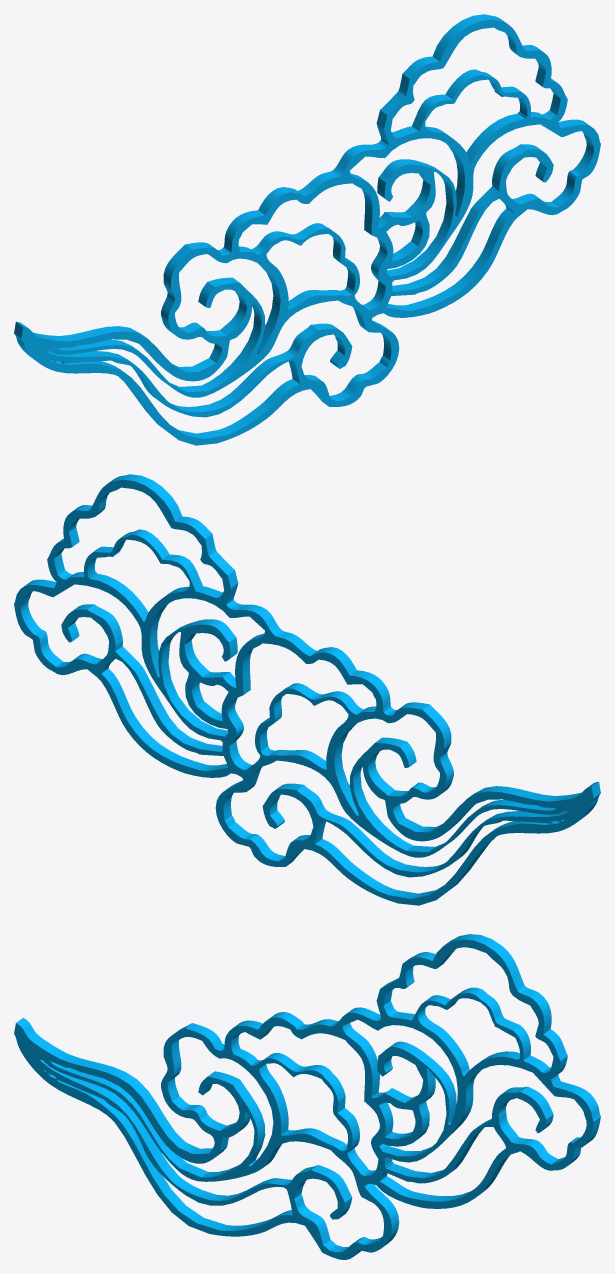
The model's file is cloud.fbx.
The picture shows the model from 3 angles, top to bottom: view 1: azimuth 30°, elevation 25°; view 2: azimuth 150°, elevation 25°; view 3: azimuth 330°, elevation 25°; orthographic projection.
Visible parts, largest first — view 1: neon_cloud1; view 2: neon_cloud1; view 3: neon_cloud1.
Part boxes in pixels (left/top/right/bottom): neon_cloud1: left=14, top=14, right=600, bottom=445; neon_cloud1: left=14, top=474, right=600, bottom=905; neon_cloud1: left=14, top=934, right=600, bottom=1259.
Size of the model in its own units: 687 by 406 by 15.1.
